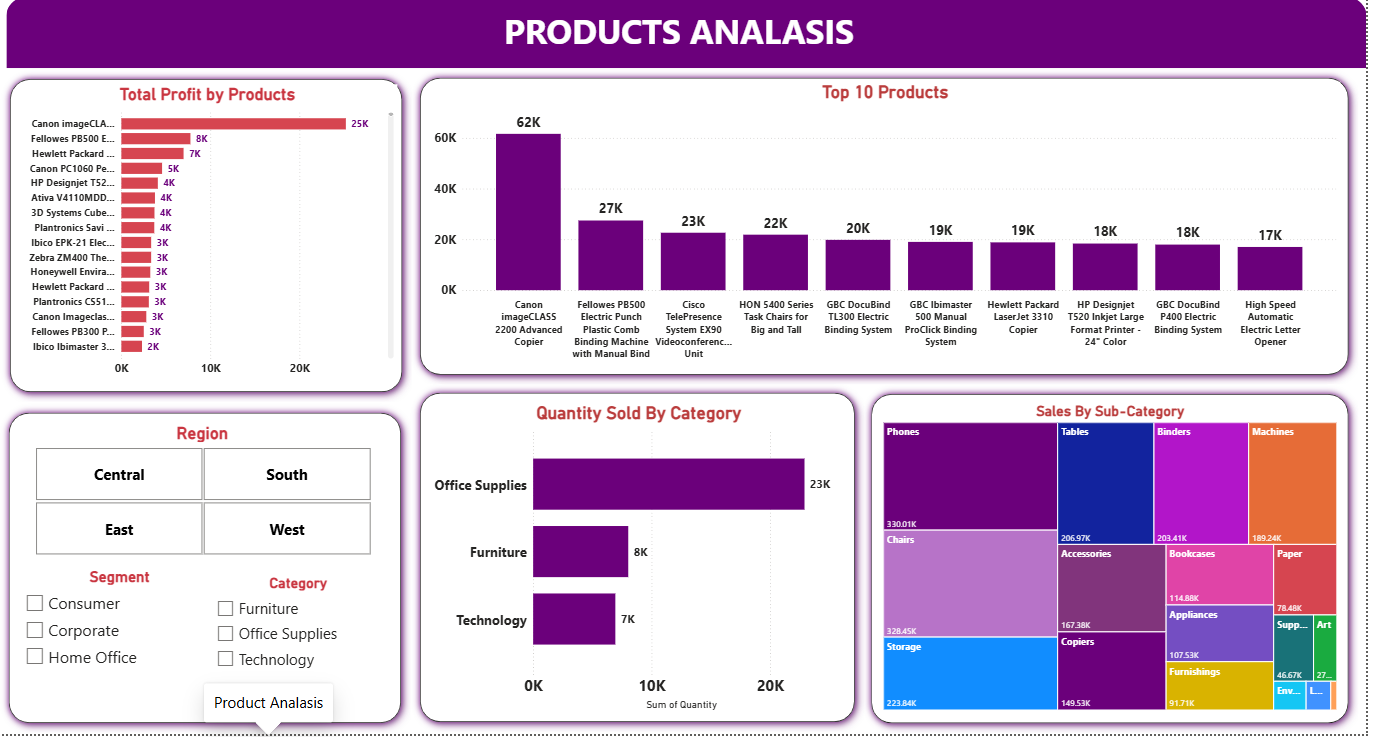

This screenshot's page, from the dashboard's own definition file:
{"tool":"powerbi","page":{"name":"Product  Analasis","canvas":[1950,1050],"ordinal":1},"visuals":[{"type":"shape","box":[10.5,0,1940,100.3],"z":0},{"type":"textbox","box":[0,8.4,1940,92],"z":1000},{"type":"shape","box":[587.4,549.8,648.1,497.5],"z":2000},{"type":"shape","box":[1231.3,551.9,708.7,497.5],"z":3000},{"type":"shape","box":[0,577,587.4,470.4],"z":4000},{"type":"shape","box":[587.4,100.3,1352.5,451.5],"z":5000},{"type":"columnChart","title":"Top 10 Products","fields":{"Category":["Superstore.Product Name"],"Y":["Superstore.Total Sales"]},"box":[614.6,119.2,1298.2,405.6],"z":6000},{"type":"clusteredBarChart","title":"Quantity Sold By Category","fields":{"Category":["Superstore.Category"],"Y":["Sum(Superstore.Quantity)"]},"box":[614.6,577,595.8,443.2],"z":7000},{"type":"treemap","title":"Sales By Sub-Category","fields":{"Group":["Superstore.Sub-Category"],"Values":["Superstore.Total Sales"]},"box":[1256.4,577,656.4,443.2],"z":8000},{"type":"shape","box":[2.1,102.4,587.4,474.5],"z":9000},{"type":"slicer","title":"Region","fields":{"Values":["Superstore.Region"]},"box":[27.2,606.2,526.8,194.4],"z":10000},{"type":"slicer","title":"Segment","fields":{"Values":["Superstore.Segment"]},"box":[27.2,813.2,290.6,177.7],"z":11000},{"type":"clusteredBarChart","title":"Total Profit by Products","fields":{"Category":["Superstore.Product Name"],"Y":["Superstore.Total Profit"]},"box":[27.2,123.3,541.4,426.5],"z":12000},{"type":"slicer","title":"Category","fields":{"Values":["Superstore.Category"]},"box":[298.9,821.6,255,163.1],"z":13000}]}

Visuals, with their boxes in screenshot pixels (x1, y1, x2, y2), scaled from the page's 1950x1050 canvas onto the 1377x737 screenshot:
shape: 7,0,1376,70
textbox: 0,6,1370,70
shape: 415,386,872,735
shape: 869,387,1370,736
shape: 0,405,415,735
shape: 415,70,1370,387
"Top 10 Products" columnChart: 434,84,1351,368
"Quantity Sold By Category" clusteredBarChart: 434,405,855,716
"Sales By Sub-Category" treemap: 887,405,1351,716
shape: 1,72,416,405
"Region" slicer: 19,425,391,562
"Segment" slicer: 19,571,224,696
"Total Profit by Products" clusteredBarChart: 19,87,402,386
"Category" slicer: 211,577,391,691
